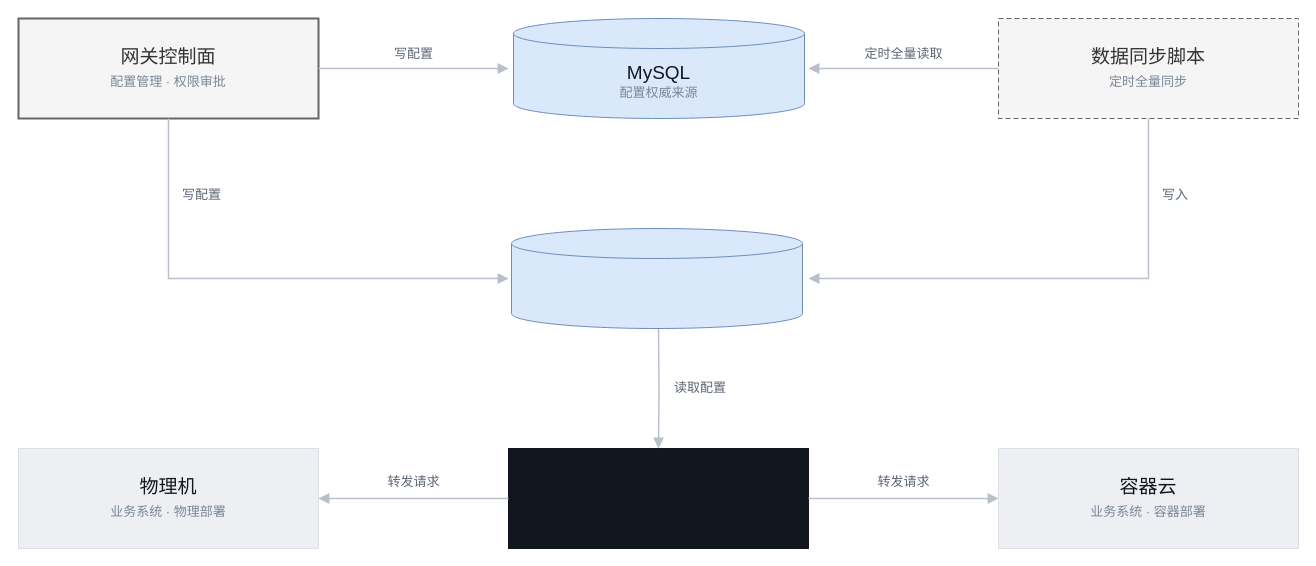
The diagram is 1316 pixels wide and 566 high, and some of its shapes have lost their labels. Here are the shapes that lost their labels. From the top down, the centre of each, then its label:
At [656,278]: "Redis 配置分发缓存".
At [658,498]: "网关引擎 路由 · 认证 · 限流".
